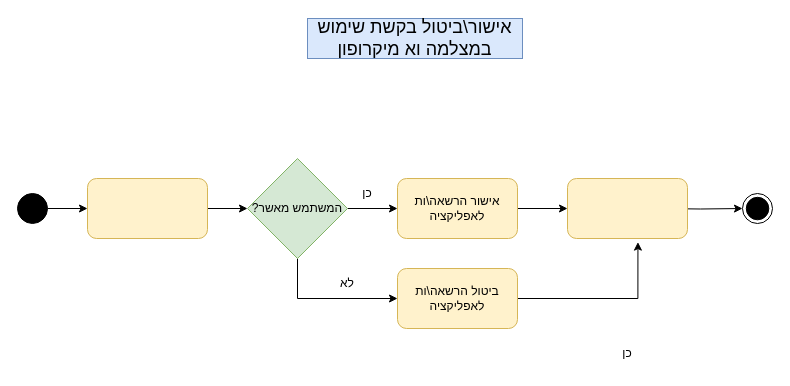
The diagram is 790 pixels wide and 386 high, and some of its shapes have lost their labels. Each missing label, with the centre of its shape:
"ניסיון הפעלת מיקרופון או מצלמה" goes at point (147, 208).
"שמירת שינוים" goes at point (627, 208).
